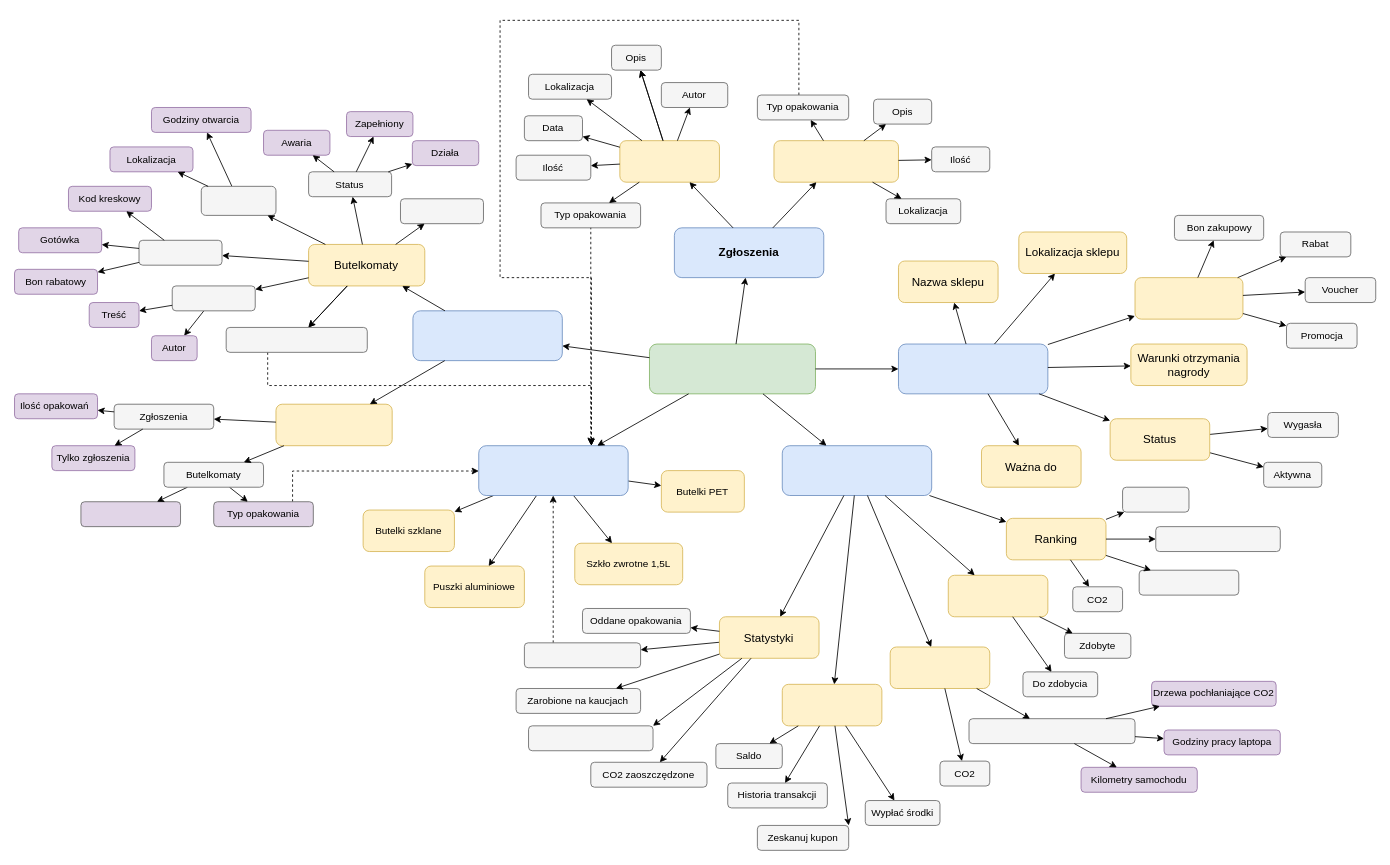
Image size: 1390x865. Some labels were removed from this diagram. Each missing label, with the centre of its shape:
Dostępne nagrody: (1188,298)
Energia zaoszczędzona: (590,738)
Filtry: (333,424)
Formularz zgłoszenia: (835,161)
Informacje: (238,200)
Komentarze: (213,298)
Liczba zwrotów: (1188,582)
Lista zgłoszeń: (669,161)
Mapa butelkomatów: (487,335)
Nagrody: (973,368)
Nazwa: (441,211)
Nazwa użytkownika: (1217,539)
Odznaki: (997,595)
Portfel: (831,705)
Porównanie zaoszczędzonej energii: (1051,731)
Pozycja: (1155,499)
Profil użytkownika: (856,470)
Przyjmowane opakowania: (296,339)
Tylko działające: (130,514)
Typy o pakowań: (553,470)
Zwrot kaucji: (180,252)
Zwroty według typu: (582,655)
ZwróćTo: (732,368)
Ślad węglowy: (939,667)
